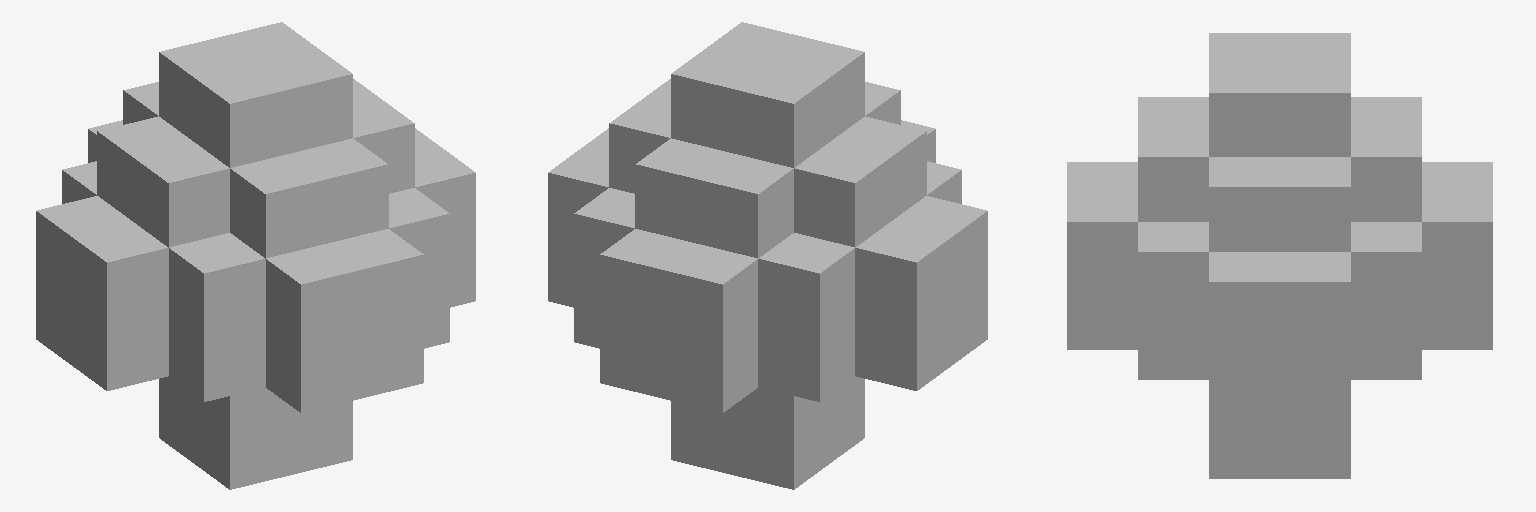
File: mushroom.obj
The picture shows the model from 3 angles: view 1: azimuth 30°, elevation 25°; view 2: azimuth 150°, elevation 25°; view 3: azimuth 270°, elevation 25°; orthographic projection.
Parts seen in each view (by area): view 1: object 1; view 2: object 1; view 3: object 1.
Boxes of the visible parts, box(x1,y1,x2,y2) form: object 1: box(36, 22, 475, 489); object 1: box(548, 22, 987, 489); object 1: box(1067, 33, 1492, 478).
Size of the model in its own units: 0.6 by 0.6 by 0.6.